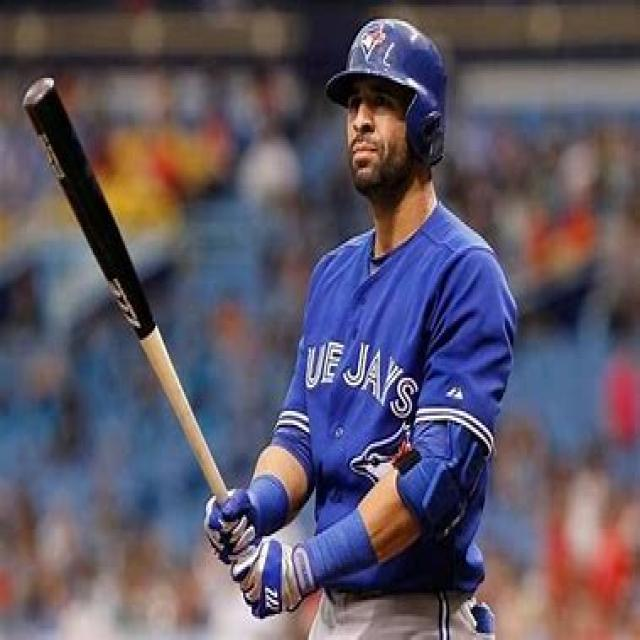bat: (17, 72, 233, 512)
